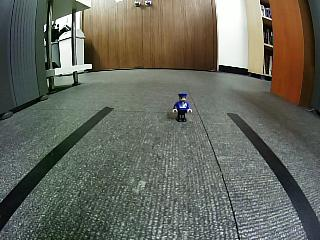person: (172, 93, 193, 122)
